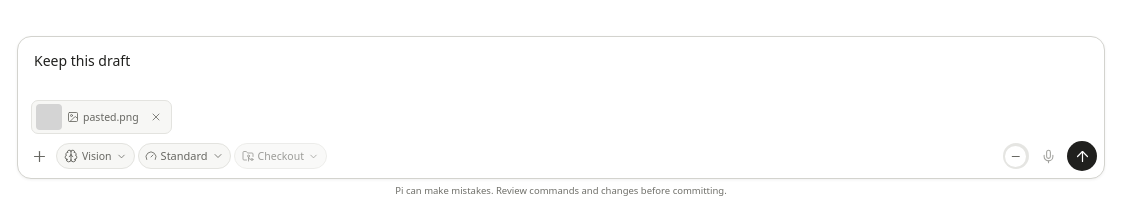
Test case: Composer image ingestion › restores the text and image draft when prompt admission fails
The image size is (1123, 211).
Click the button named "Send message". click: (1082, 156)
box: [1067, 141, 1097, 171]
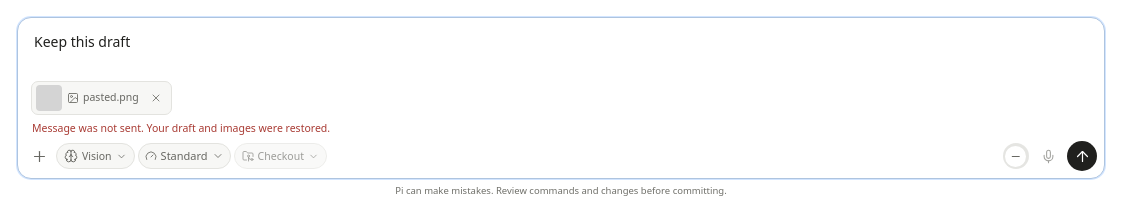
Expected: the dropdown named "Message Pi" holds "Keep this draft", [25, 25, 1097, 80]
Now the message "Message was not sent. Your draft and images were restored." is shown, box [32, 121, 330, 135]
